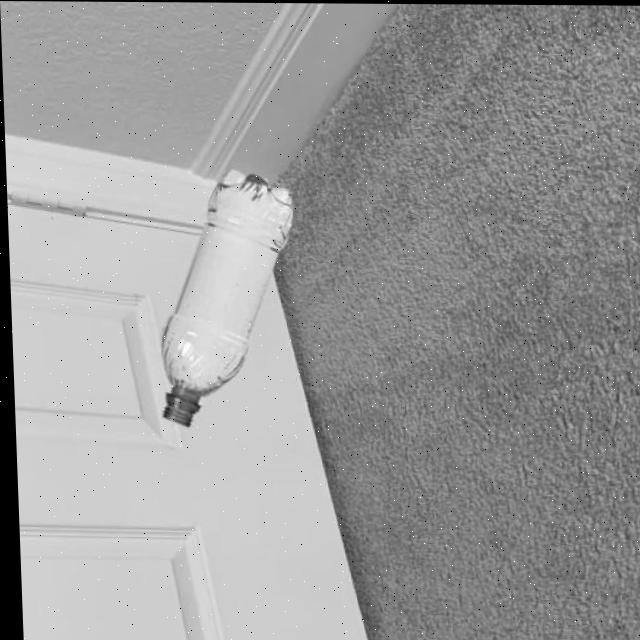bottle: (148, 167, 301, 429)
